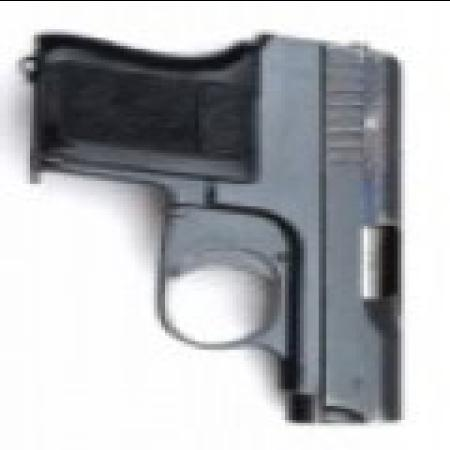Pistol: (30, 34, 416, 416)
